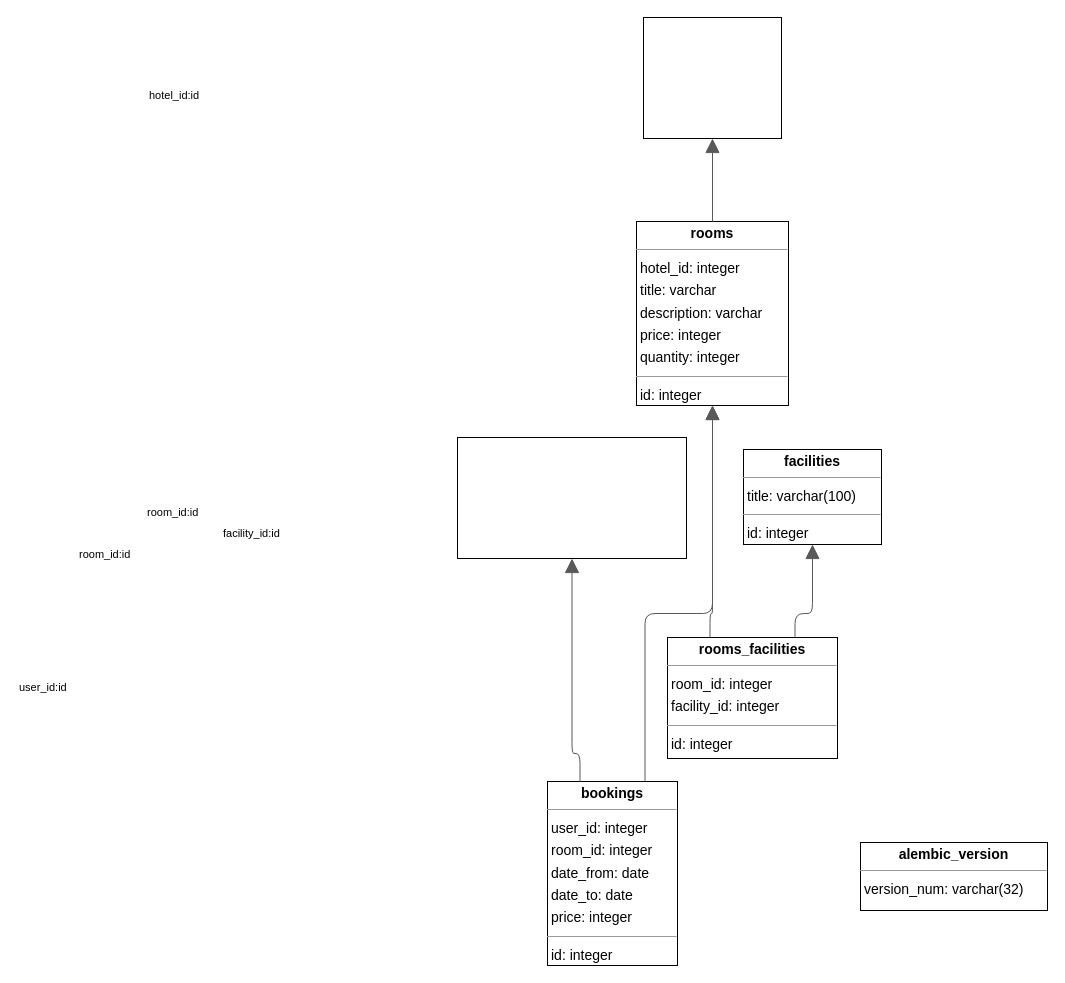
The diagram is 1065 pixels wide and 983 high, and some of its shapes have lost their labels. Each missing label, with the centre of its shape:
"hotels title: varchar(100) location: varchar id: integer" belongs at point (712, 77).
"users email: varchar(200) hashed_password: varchar(200) id: integer" belongs at point (571, 497).
